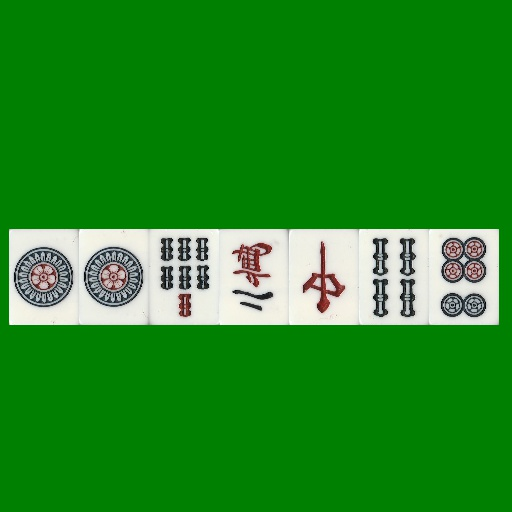1p: (9, 229, 79, 325), (79, 229, 149, 325)
2m: (219, 229, 289, 325)
4s: (359, 229, 429, 325)
6p: (429, 229, 499, 325)
7s: (149, 229, 219, 325)
tyun: (289, 229, 359, 325)
